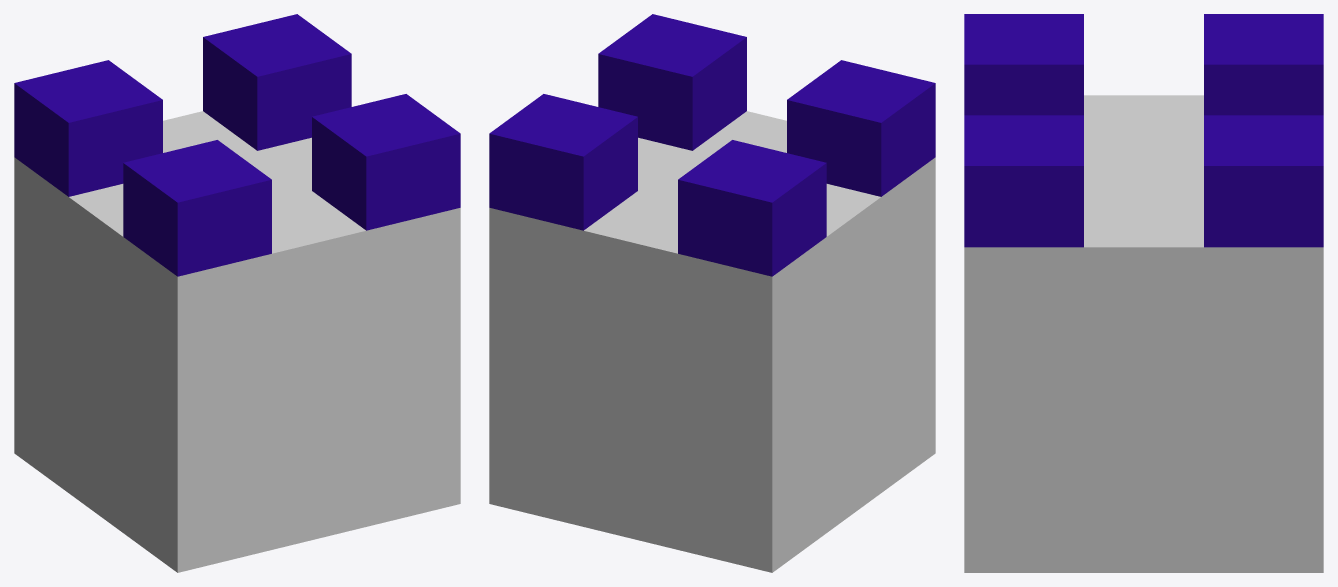
Rendered from tower.glb.
3 renders of one model, left to right at view 1: azimuth 30°, elevation 25°; view 2: azimuth 150°, elevation 25°; view 3: azimuth 270°, elevation 25°, orthographic. The views are drawn at different scales.
Parts seen in each view (by area): view 1: Cube; view 2: Cube; view 3: Cube.
Boxes of the visible parts, <box> form: Cube: <box>14,14,460,572</box>; Cube: <box>489,14,935,572</box>; Cube: <box>964,14,1323,572</box>.
Size of the model in its own units: 2 by 2.5 by 2.
